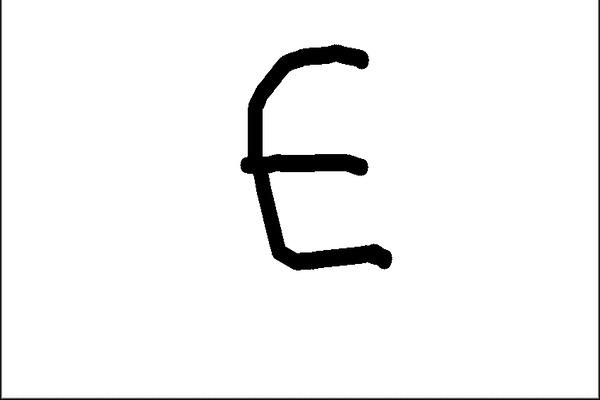E: (233, 38, 418, 278)
